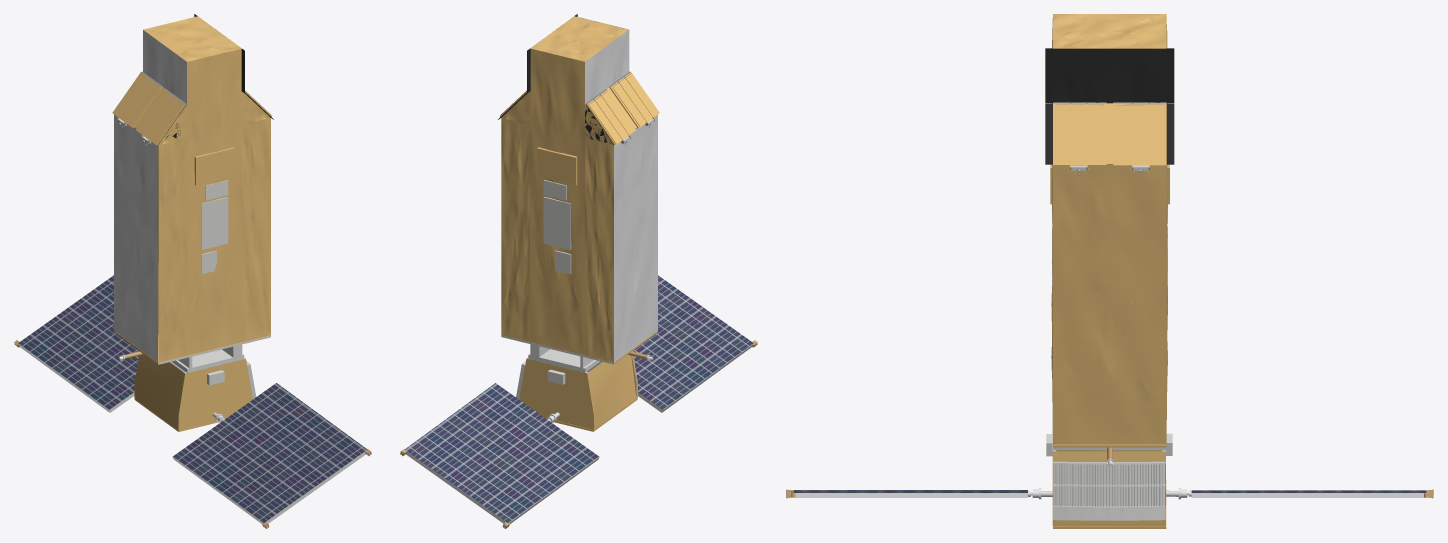
Rendered from fuse.glb.
The picture shows the model from 3 angles, left to right: view 1: azimuth 30°, elevation 25°; view 2: azimuth 150°, elevation 25°; view 3: azimuth 270°, elevation 25°; orthographic projection. The views are drawn at different scales.
Parts seen in each view (by area): view 1: Layer_0; view 2: Layer_0; view 3: Layer_0.
Boxes of the visible parts, <box> form: Layer_0: <box>14,14,371,528</box>; Layer_0: <box>400,14,757,528</box>; Layer_0: <box>786,14,1433,528</box>.
Bounding box in the file's own units: 1.76 × 4.5 × 5.3.
Materials: 7 (1 with a texture image).
